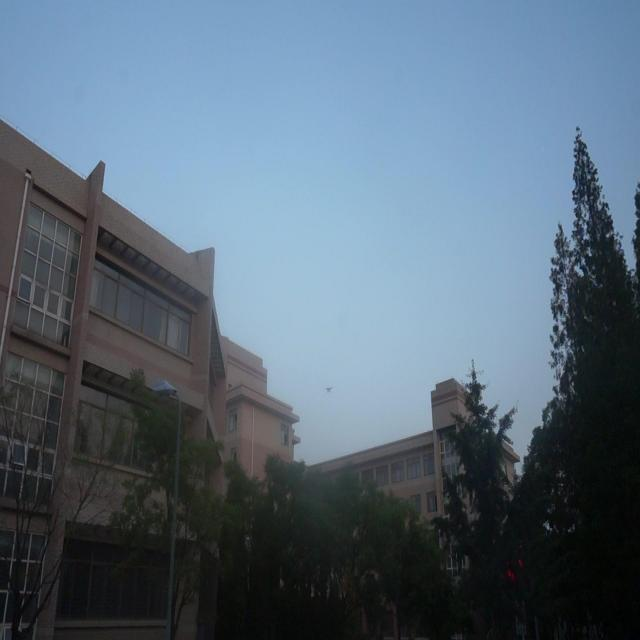UAV: (325, 387, 333, 393)
